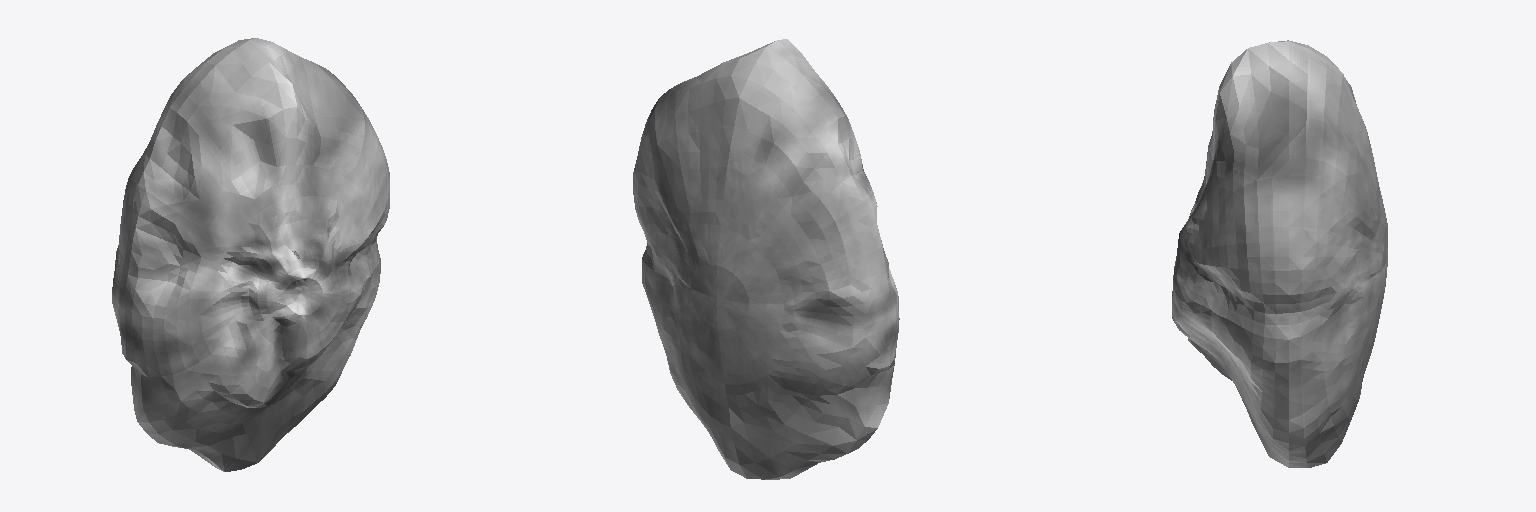
3 renders of one model, left to right at view 1: azimuth 30°, elevation 25°; view 2: azimuth 150°, elevation 25°; view 3: azimuth 270°, elevation 25°, orthographic.
Bounding box in the file's own units: 92.67 × 148 × 68.38.
1 materials, 1 textured.